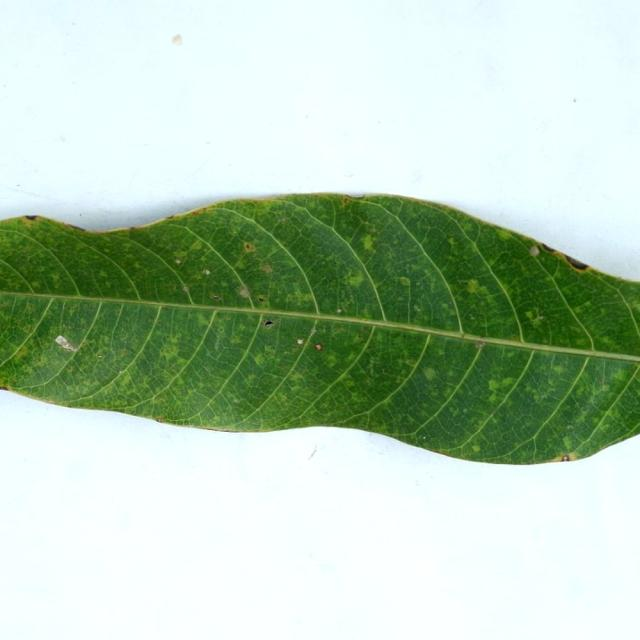Mango: (0, 195, 639, 463)
Powdery_Mildew: (447, 270, 508, 329), (111, 367, 139, 393), (531, 383, 560, 403), (125, 259, 153, 279), (487, 376, 517, 393), (338, 289, 356, 311), (349, 270, 368, 290), (464, 278, 485, 295), (573, 300, 595, 314), (361, 235, 375, 252), (408, 261, 424, 275), (172, 251, 189, 264), (495, 229, 513, 241), (323, 352, 337, 366), (423, 367, 437, 380), (254, 353, 267, 366), (238, 285, 251, 298), (298, 292, 314, 302), (289, 370, 304, 380), (524, 310, 537, 321), (51, 274, 62, 287), (16, 347, 29, 358), (563, 435, 572, 450), (190, 239, 202, 250), (398, 276, 411, 286), (230, 335, 243, 345), (343, 379, 356, 389), (261, 263, 273, 273), (552, 365, 565, 374), (532, 315, 544, 324), (244, 243, 255, 252), (247, 374, 257, 383), (447, 238, 457, 246), (99, 270, 109, 278), (471, 444, 481, 452), (27, 303, 35, 310), (413, 305, 420, 312), (120, 349, 128, 355), (159, 349, 165, 356)
